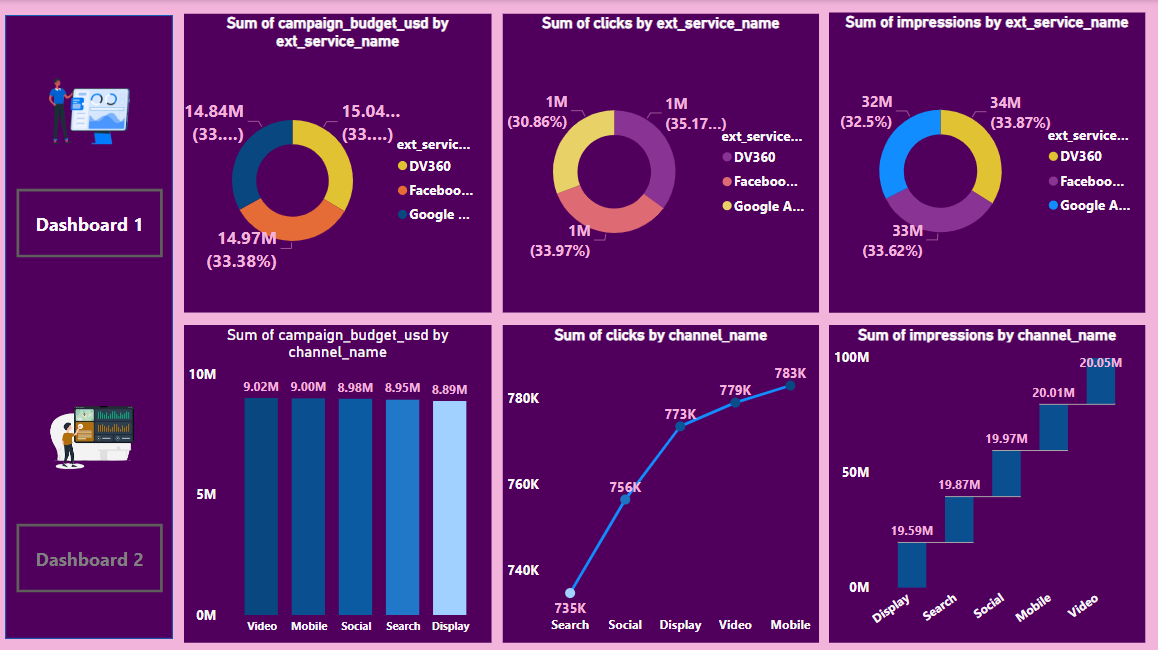

The dashboard page shown, as its layout file describes it:
{"tool":"powerbi","page":{"name":"Page 1","canvas":[1280,720],"ordinal":0},"visuals":[{"type":"donutChart","fields":{"Category":["Marketing campaign dataset.ext_service_name"],"Y":["Sum(Marketing campaign dataset.campaign_budget_usd)"]},"box":[208.6,15.1,337.6,328],"z":0},{"type":"donutChart","fields":{"Category":["Marketing campaign dataset.ext_service_name"],"Y":["Sum(Marketing campaign dataset.impressions)"]},"box":[916.6,13.7,347.2,329.3],"z":1000},{"type":"donutChart","fields":{"Y":["Sum(Marketing campaign dataset.clicks)"],"Category":["Marketing campaign dataset.ext_service_name"]},"box":[558.5,15.1,347.2,328],"z":2000},{"type":"columnChart","fields":{"Category":["Marketing campaign dataset.channel_name"],"Y":["Sum(Marketing campaign dataset.campaign_budget_usd)"]},"box":[208.6,356.8,337.6,348.5],"z":3000},{"type":"lineChart","fields":{"Category":["Marketing campaign dataset.channel_name"],"Y":["Sum(Marketing campaign dataset.clicks)"]},"box":[558.5,356.8,347.2,348.5],"z":4000},{"type":"waterfallChart","fields":{"Category":["Marketing campaign dataset.channel_name"],"Y":["Sum(Marketing campaign dataset.impressions)"]},"box":[916.6,356.8,347.2,348.5],"z":5000},{"type":"shape","box":[12.3,16.5,183.9,684.7],"z":6000},{"type":"image","box":[22,59.4,163.3,123.5],"z":7000},{"type":"image","box":[24.7,418.9,163.3,122.1],"z":8000},{"type":"actionButton","box":[24.7,207.6,160.5,75.5],"z":9000},{"type":"actionButton","box":[24.7,575.3,160.5,75.5],"z":10000}]}

Visuals, with their boxes in screenshot pixels (x1, y1, x2, y2), scaled from the page's 1280x720 canvas onto the 1158x650 screenshot:
donutChart - Marketing campaign dataset.ext_service_name x Sum(Marketing campaign dataset.campaign_budget_usd): <region>189, 14, 494, 310</region>
donutChart - Marketing campaign dataset.ext_service_name x Sum(Marketing campaign dataset.impressions): <region>829, 12, 1143, 310</region>
donutChart - Sum(Marketing campaign dataset.clicks) x Marketing campaign dataset.ext_service_name: <region>505, 14, 819, 310</region>
columnChart - Marketing campaign dataset.channel_name x Sum(Marketing campaign dataset.campaign_budget_usd): <region>189, 322, 494, 637</region>
lineChart - Marketing campaign dataset.channel_name x Sum(Marketing campaign dataset.clicks): <region>505, 322, 819, 637</region>
waterfallChart - Marketing campaign dataset.channel_name x Sum(Marketing campaign dataset.impressions): <region>829, 322, 1143, 637</region>
shape: <region>11, 15, 177, 633</region>
image: <region>20, 54, 168, 165</region>
image: <region>22, 378, 170, 488</region>
actionButton: <region>22, 187, 168, 256</region>
actionButton: <region>22, 519, 168, 588</region>
